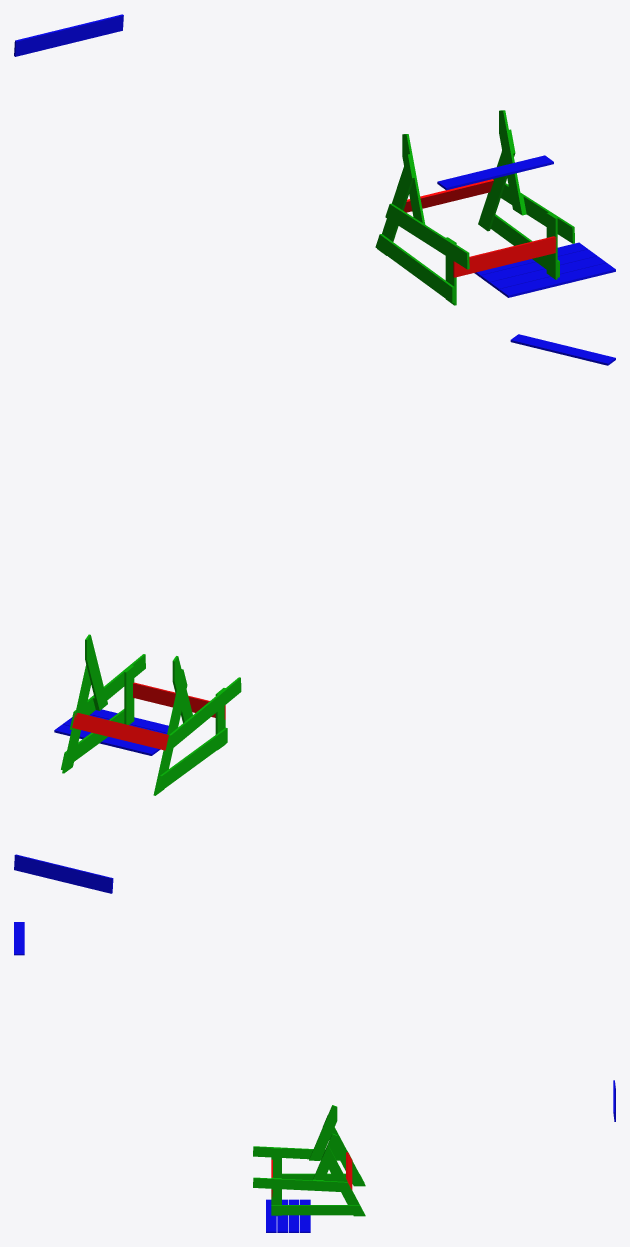
The model's file is result.glb.
The picture shows the model from 3 angles, top to bottom: view 1: azimuth 30°, elevation 25°; view 2: azimuth 150°, elevation 25°; view 3: azimuth 270°, elevation 25°; orthographic projection. The views are drawn at different scales.
Parts seen in each view (by area): view 1: 603ebab1-9513-4253-b858-cd9f8e839531__Box_8, a5a019cb-9737-4812-9ef3-385219ea256f__Plane_1, 3ccdc1e0-07a5-4e77-96c3-3168ebb16808__undefined, c84e0a29-5bec-46e4-bf08-57e96d3fad64__undefined, 20107a38-1285-4204-9804-b2476f120ce6__Box_4, cb4b913b-d65a-4582-9855-11d264e0ce3a__Box_5, 7ffc504b-7602-4a71-bd7e-1b85d7698eb7__Plane_2, caaef88d-626c-4dfc-84b0-919af0da2df4__undefined, 07e2cdba-01b0-42f2-b3be-3008068c0440__Box_1, 76e66c98-ada0-469a-b954-c154ac211bf9__undefined, 51b9b10d-0a95-4d0c-b194-ac78f239d290__undefined, ad710ffc-2a7b-4a2c-a714-188f18de741a__Box_2 (+5 smaller); view 2: 603ebab1-9513-4253-b858-cd9f8e839531__Box_8, 7ffc504b-7602-4a71-bd7e-1b85d7698eb7__Plane_2, 3ccdc1e0-07a5-4e77-96c3-3168ebb16808__undefined, c84e0a29-5bec-46e4-bf08-57e96d3fad64__undefined, 20107a38-1285-4204-9804-b2476f120ce6__Box_4, a5a019cb-9737-4812-9ef3-385219ea256f__Plane_1, 51b9b10d-0a95-4d0c-b194-ac78f239d290__undefined, caaef88d-626c-4dfc-84b0-919af0da2df4__undefined, 76e66c98-ada0-469a-b954-c154ac211bf9__undefined; view 3: 76e66c98-ada0-469a-b954-c154ac211bf9__undefined, a5946a3d-8b90-4926-afe3-ea0b3504553e__Plane, c82e8dd1-a1ae-4e9f-8fc5-66428dc890d5__undefined, 8f87ec02-c8b2-4ba4-9d36-3c0224e11809__undefined, 3ccdc1e0-07a5-4e77-96c3-3168ebb16808__undefined, 51b9b10d-0a95-4d0c-b194-ac78f239d290__undefined.
Boxes of the visible parts, bbox=[...] form: 603ebab1-9513-4253-b858-cd9f8e839531__Box_8: bbox=[14, 14, 123, 56]; a5a019cb-9737-4812-9ef3-385219ea256f__Plane_1: bbox=[453, 236, 557, 277]; 3ccdc1e0-07a5-4e77-96c3-3168ebb16808__undefined: bbox=[385, 203, 469, 269]; c84e0a29-5bec-46e4-bf08-57e96d3fad64__undefined: bbox=[375, 234, 454, 303]; 20107a38-1285-4204-9804-b2476f120ce6__Box_4: bbox=[437, 155, 553, 190]; cb4b913b-d65a-4582-9855-11d264e0ce3a__Box_5: bbox=[499, 263, 615, 297]; 7ffc504b-7602-4a71-bd7e-1b85d7698eb7__Plane_2: bbox=[403, 179, 493, 212]; caaef88d-626c-4dfc-84b0-919af0da2df4__undefined: bbox=[499, 110, 524, 215]; 07e2cdba-01b0-42f2-b3be-3008068c0440__Box_1: bbox=[490, 256, 606, 290]; 76e66c98-ada0-469a-b954-c154ac211bf9__undefined: bbox=[501, 183, 574, 243]; 51b9b10d-0a95-4d0c-b194-ac78f239d290__undefined: bbox=[377, 154, 414, 255]; ad710ffc-2a7b-4a2c-a714-188f18de741a__Box_2: bbox=[480, 249, 596, 284]; 603ebab1-9513-4253-b858-cd9f8e839531__Box_8: bbox=[14, 854, 113, 893]; 7ffc504b-7602-4a71-bd7e-1b85d7698eb7__Plane_2: bbox=[72, 713, 168, 750]; 3ccdc1e0-07a5-4e77-96c3-3168ebb16808__undefined: bbox=[165, 677, 241, 753]; c84e0a29-5bec-46e4-bf08-57e96d3fad64__undefined: bbox=[156, 727, 227, 793]; 20107a38-1285-4204-9804-b2476f120ce6__Box_4: bbox=[510, 334, 615, 365]; a5a019cb-9737-4812-9ef3-385219ea256f__Plane_1: bbox=[133, 682, 225, 719]; 51b9b10d-0a95-4d0c-b194-ac78f239d290__undefined: bbox=[153, 669, 187, 795]; caaef88d-626c-4dfc-84b0-919af0da2df4__undefined: bbox=[85, 634, 107, 710]; 76e66c98-ada0-469a-b954-c154ac211bf9__undefined: bbox=[69, 654, 145, 729]; 76e66c98-ada0-469a-b954-c154ac211bf9__undefined: bbox=[253, 1177, 352, 1192]; a5946a3d-8b90-4926-afe3-ea0b3504553e__Plane: bbox=[271, 1205, 364, 1215]; c82e8dd1-a1ae-4e9f-8fc5-66428dc890d5__undefined: bbox=[309, 1105, 337, 1160]; 8f87ec02-c8b2-4ba4-9d36-3c0224e11809__undefined: bbox=[322, 1145, 365, 1216]; 3ccdc1e0-07a5-4e77-96c3-3168ebb16808__undefined: bbox=[253, 1146, 352, 1160]; 51b9b10d-0a95-4d0c-b194-ac78f239d290__undefined: bbox=[323, 1115, 365, 1186].
Bounding box in the file's own units: 2216 × 1838 × 5039.
